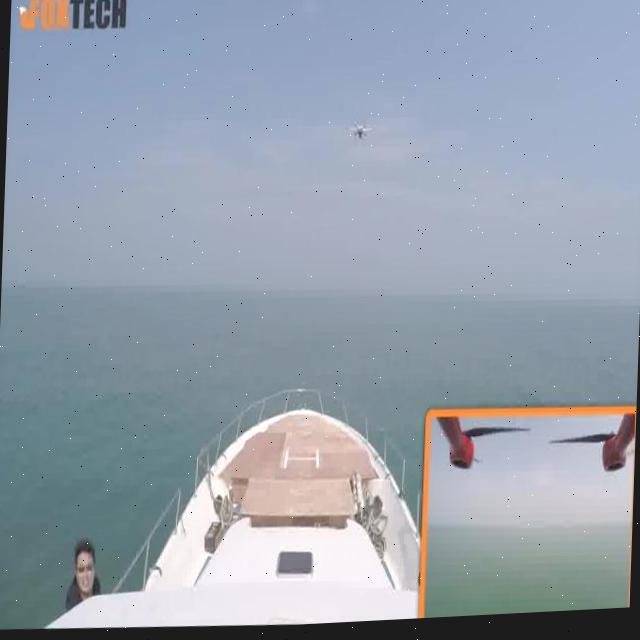drone: (334, 105, 382, 155)
